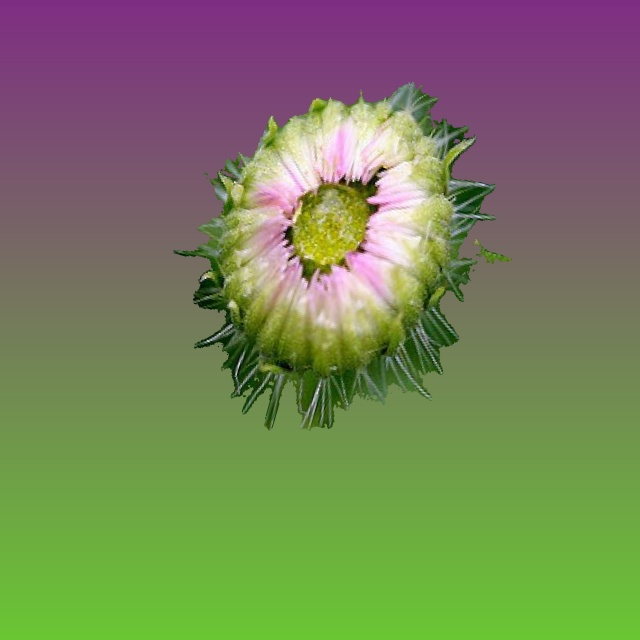daisy: (173, 82, 510, 430)
